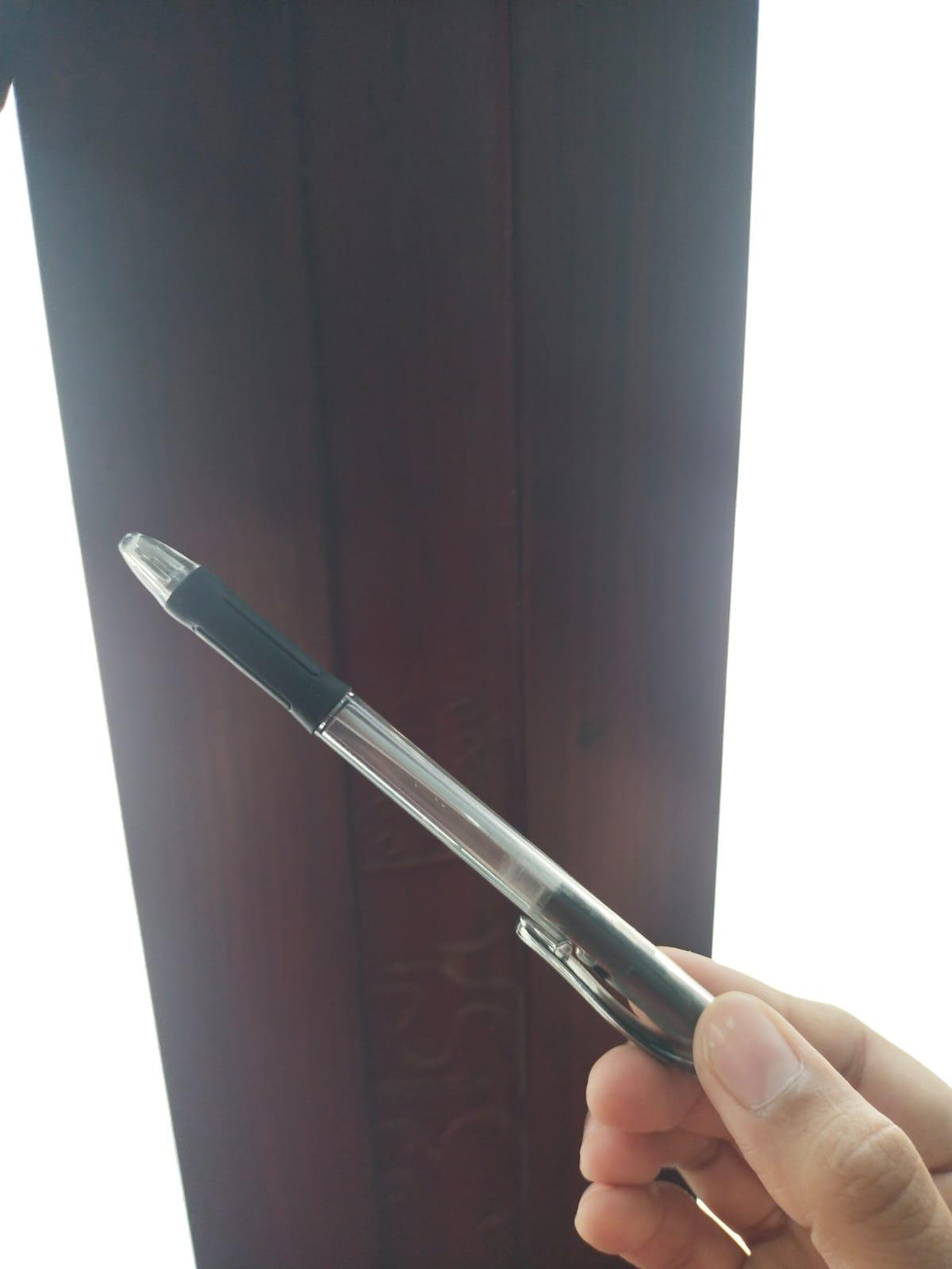ballpoint: (120, 534, 712, 1073)
